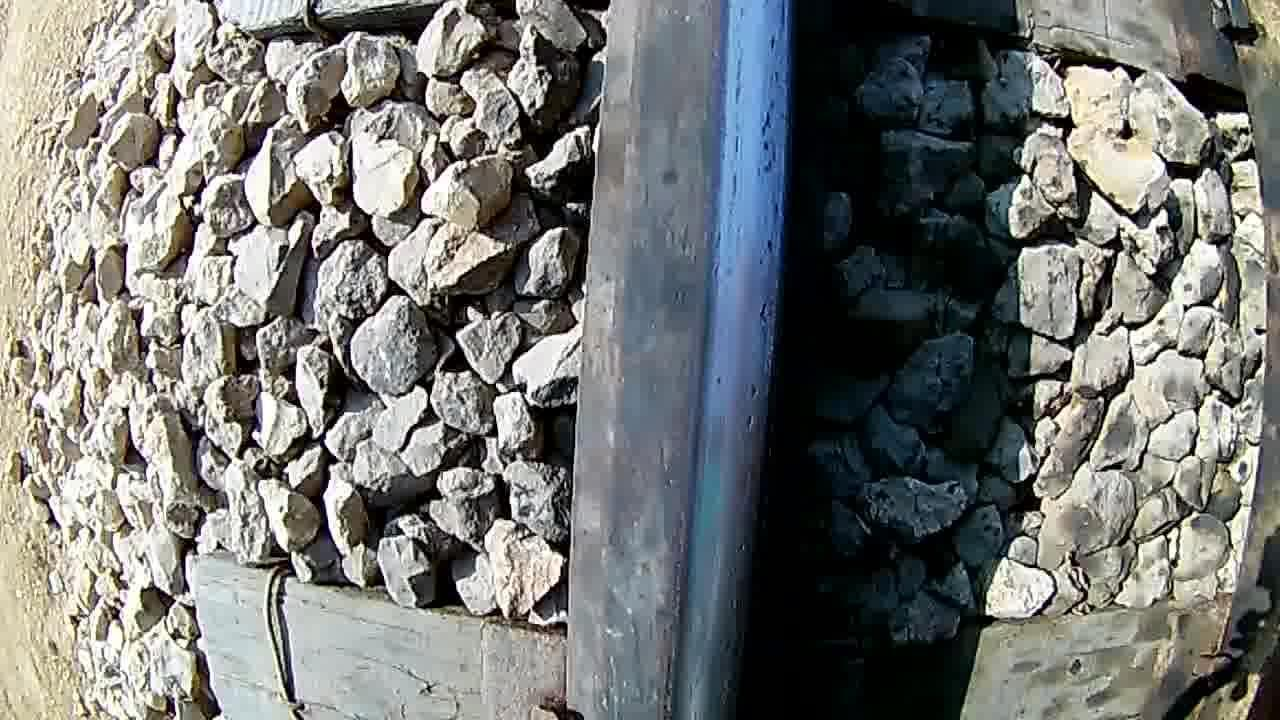crack: (633, 1, 787, 720)
